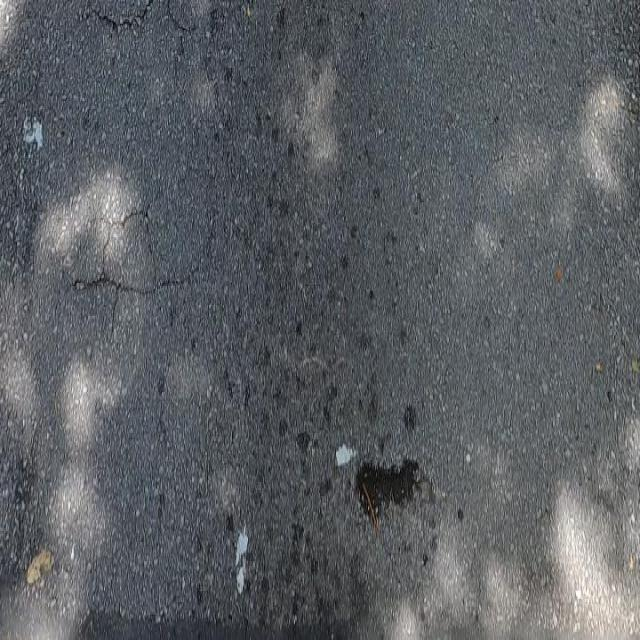cracks: (42, 0, 336, 351)
